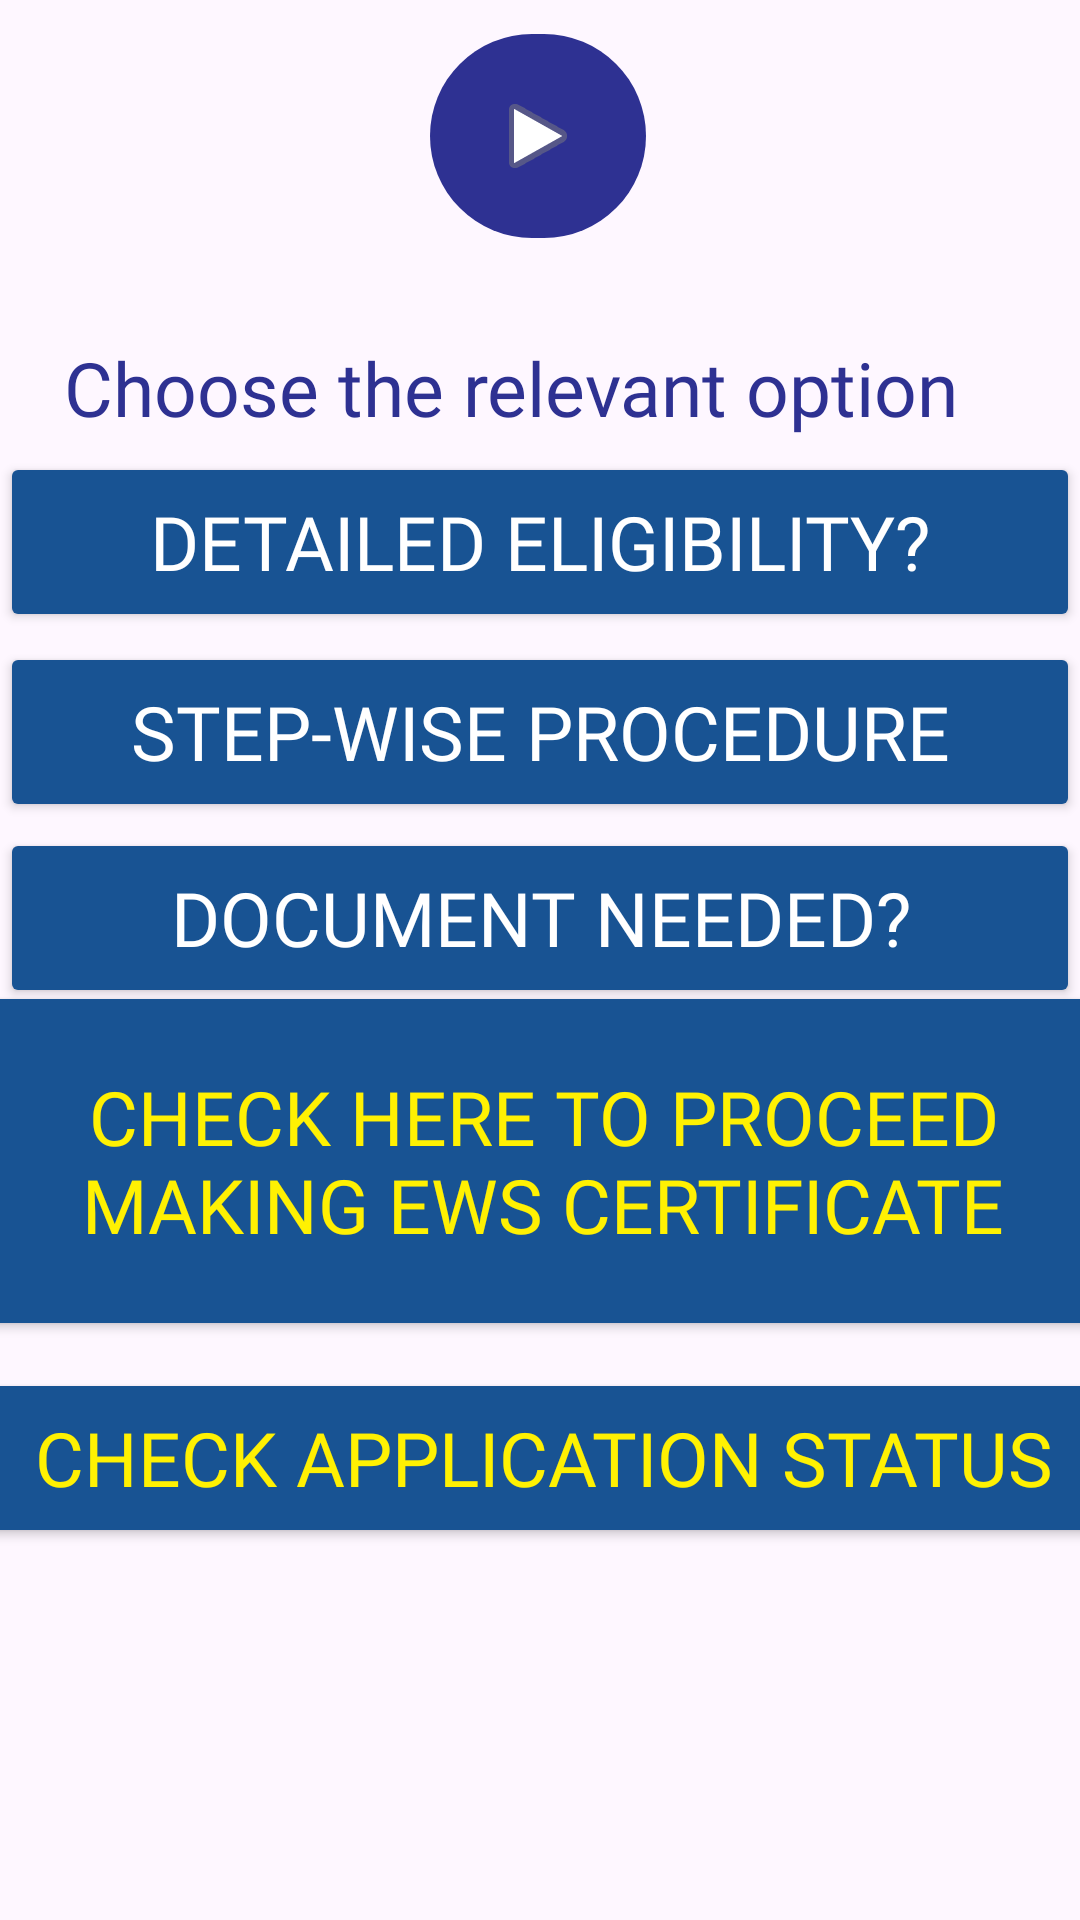

Point at icon controls on the screen. Image size 1080×1920, points as (x,y).
play: (538,136)
